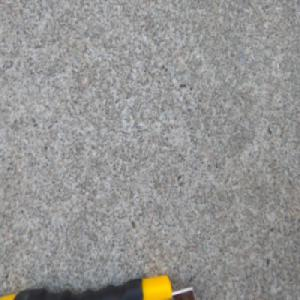Cutter: (0, 273, 200, 300)
